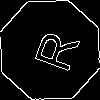R: (25, 25, 80, 75)
